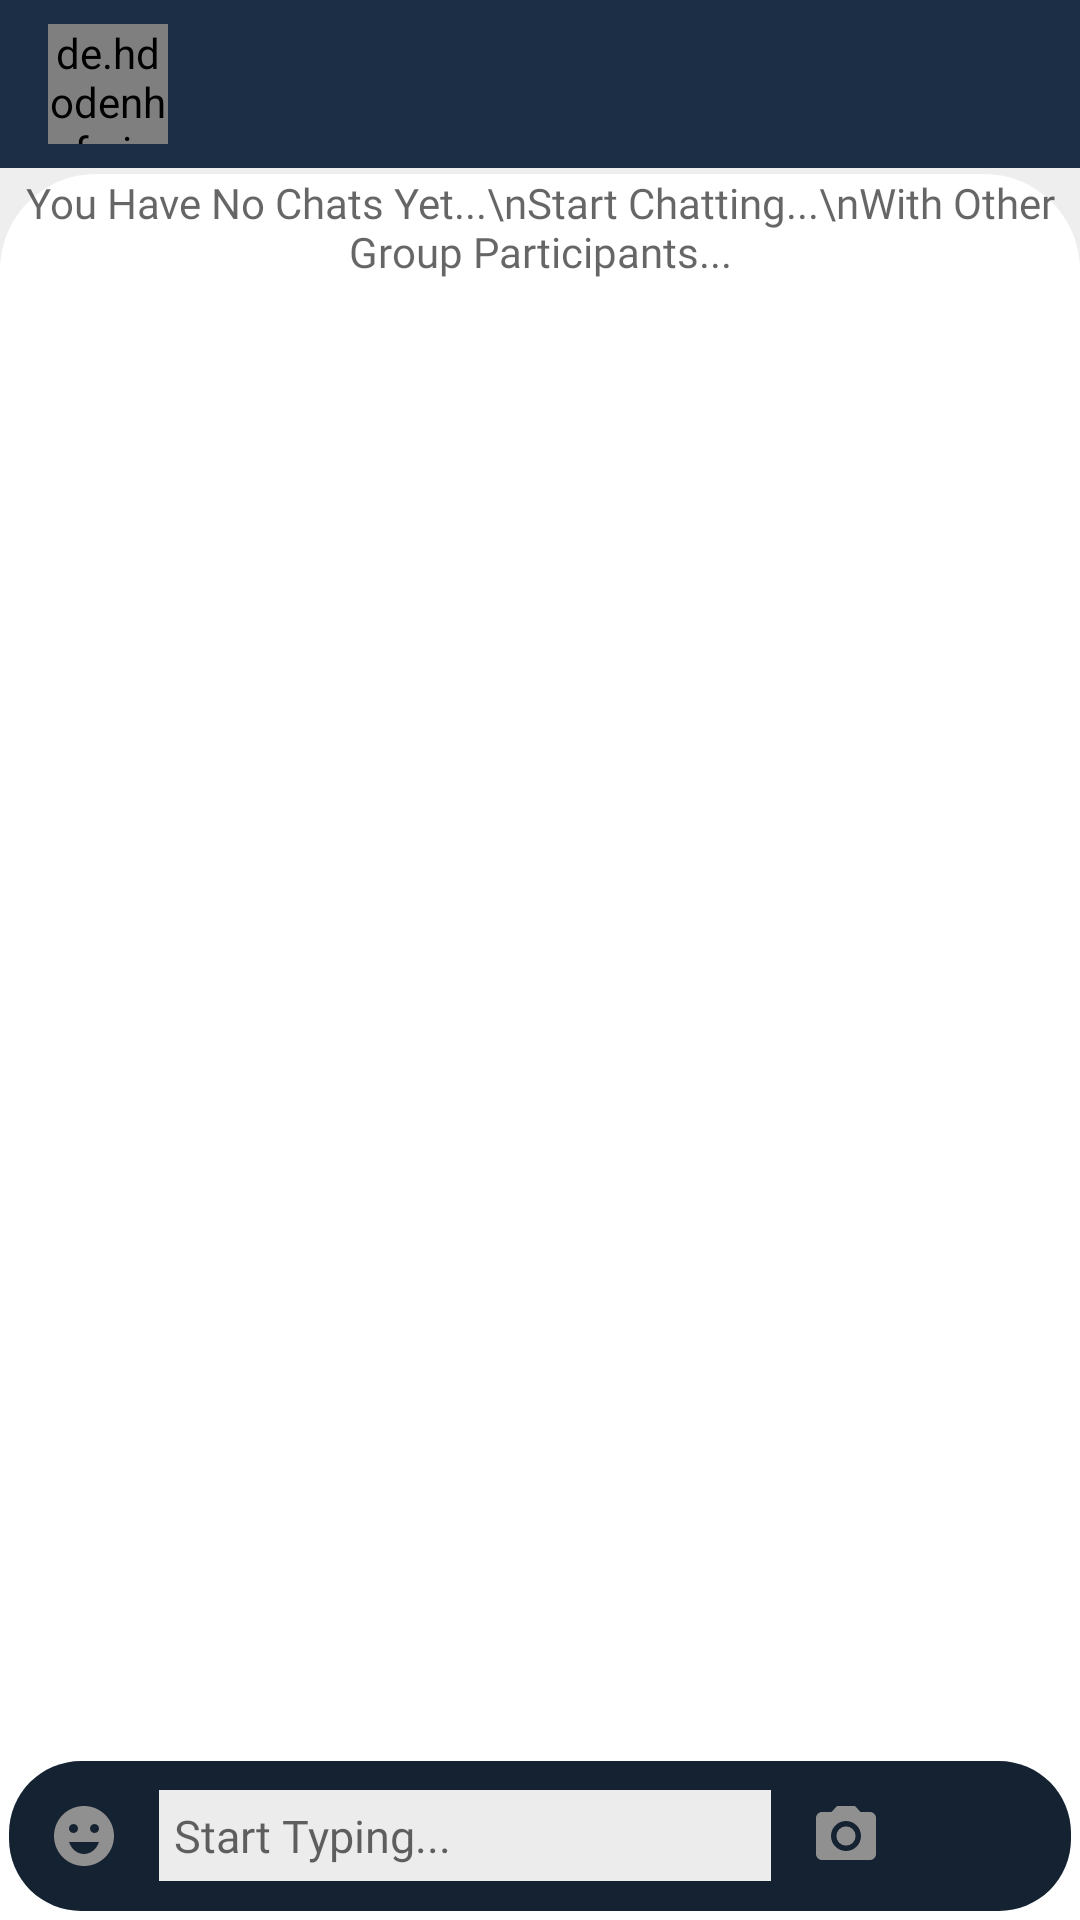

Named icons in this screenshot (1080×1920) and their centers, point (x, y):
emoji: point (84, 1836)
photo camera: point (846, 1833)
